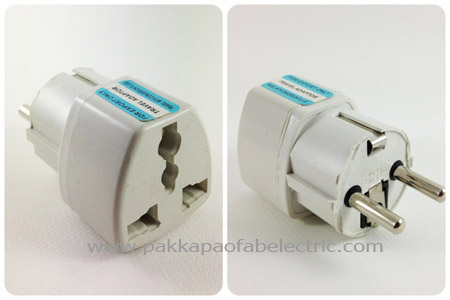Three_eye_plug: (15, 63, 216, 258), (233, 69, 445, 246)
